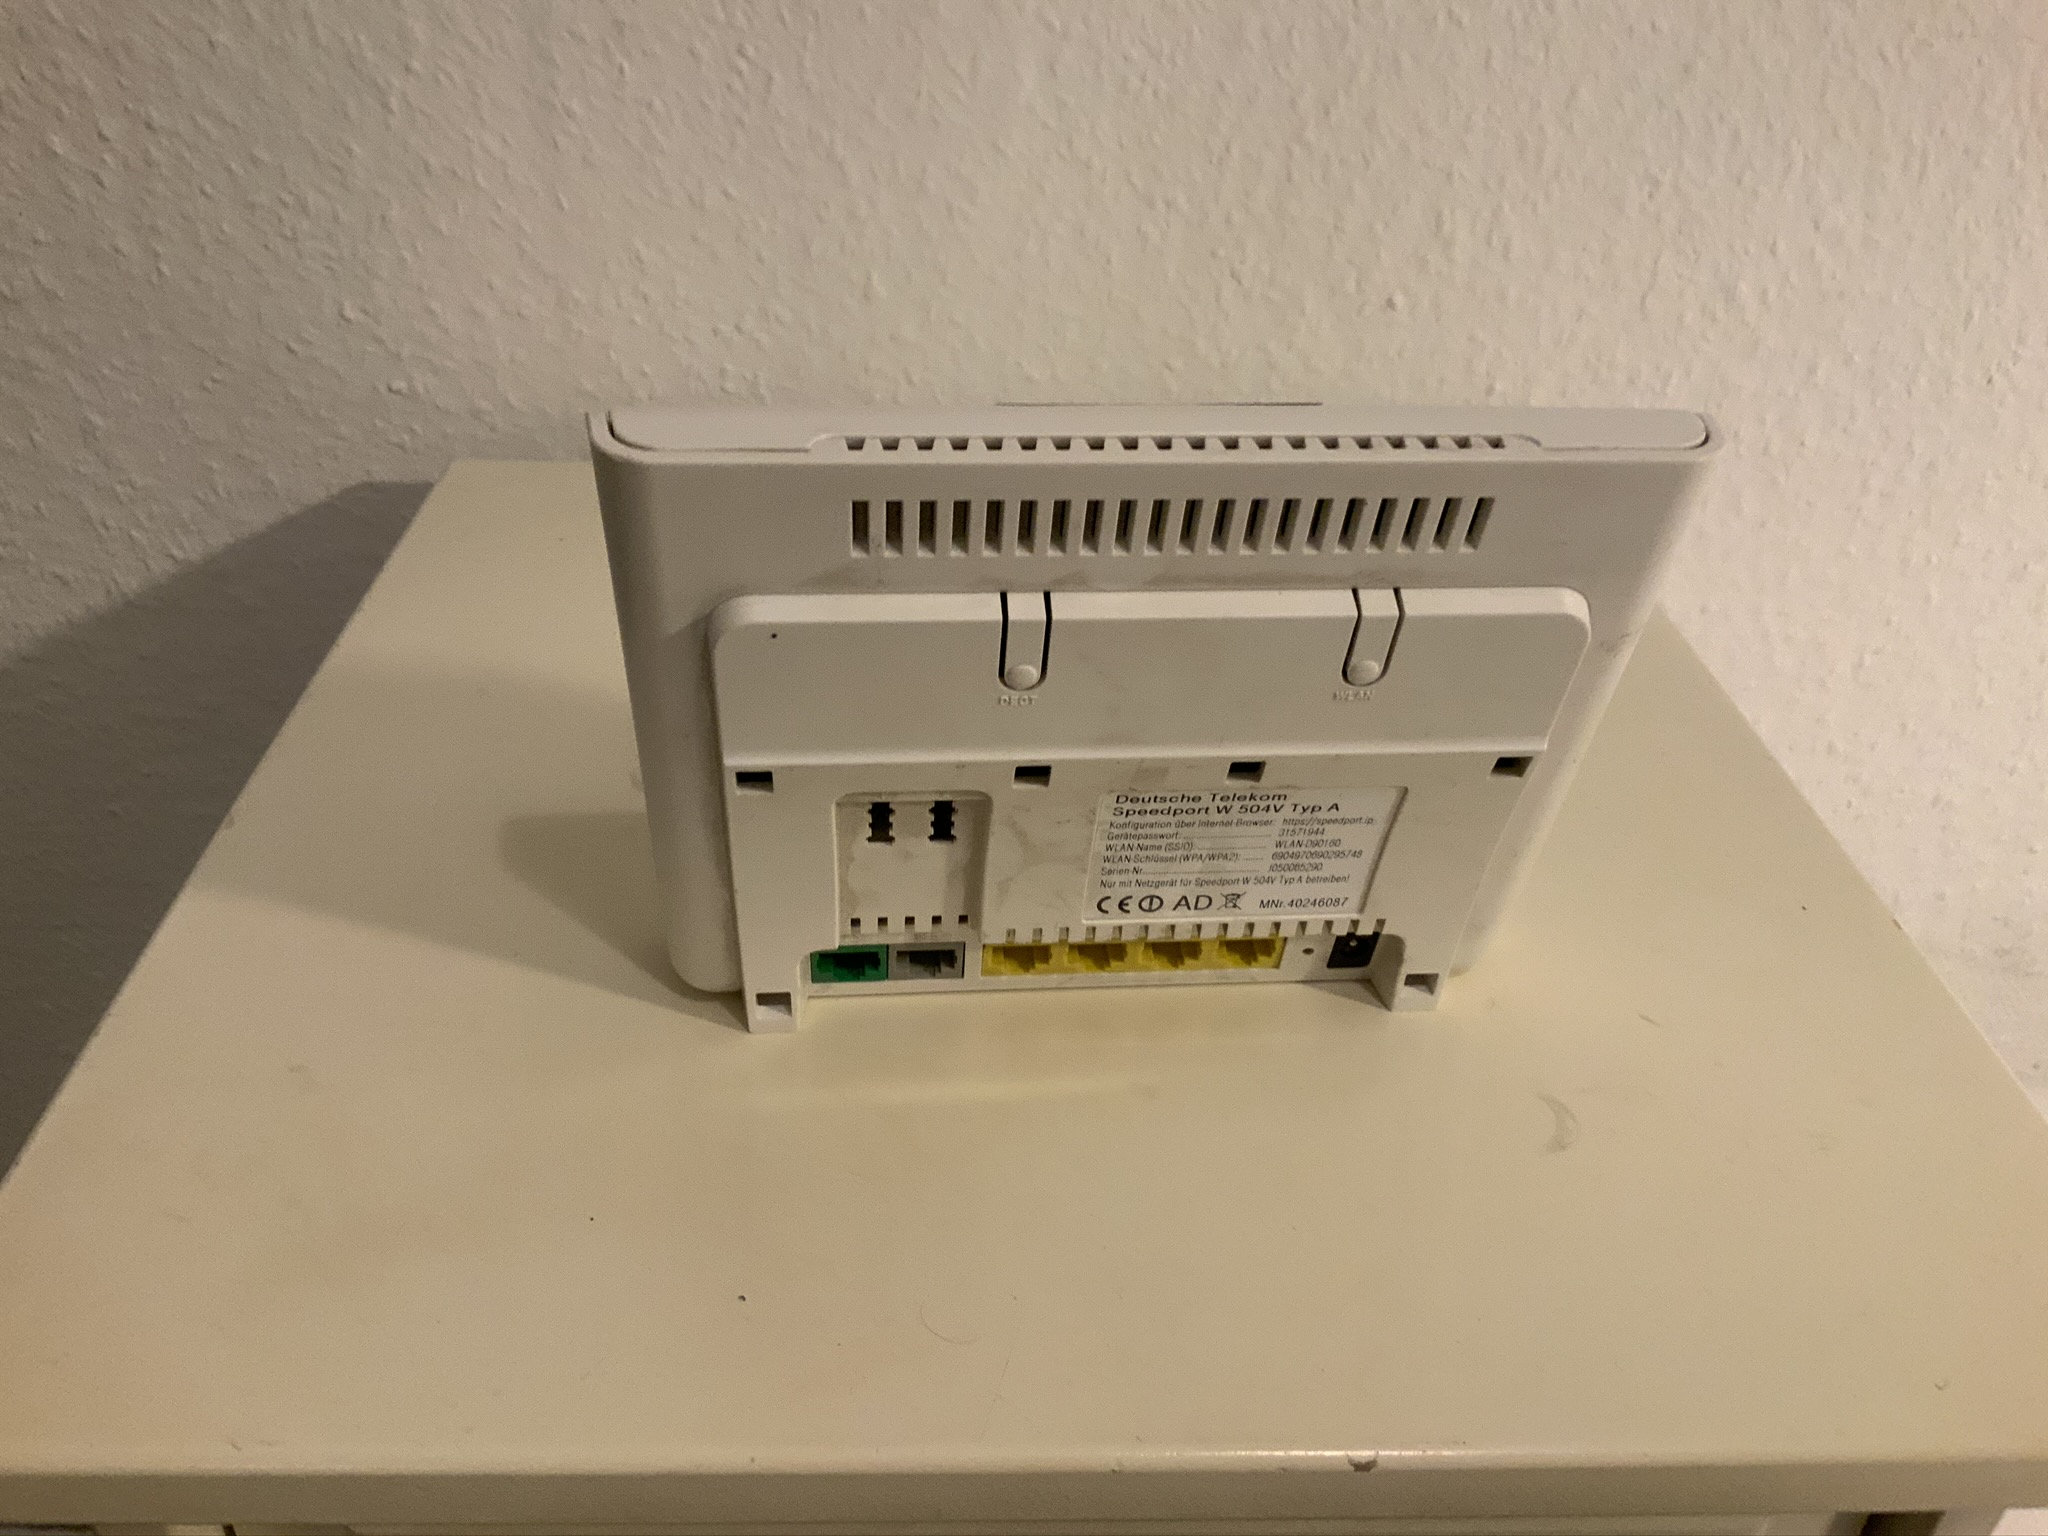Router2: (576, 399, 1732, 1041)
